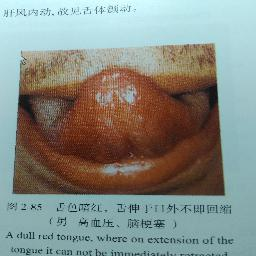tongue: (28, 66, 214, 164)
